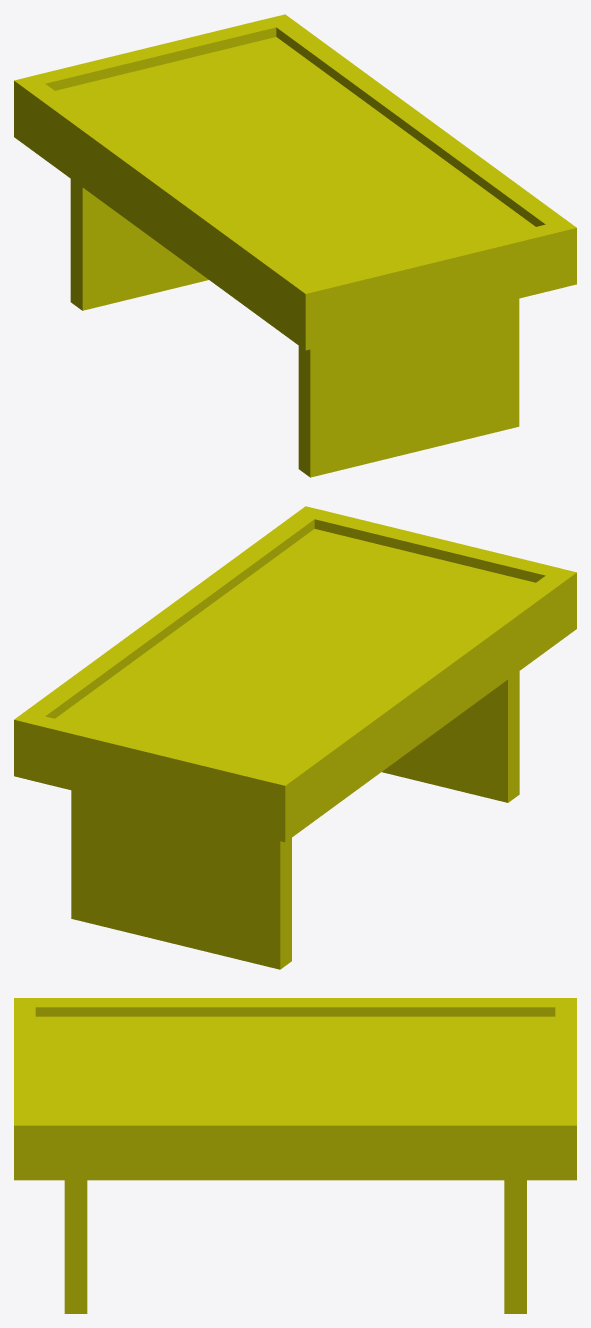
File: airhockey-collider.dae
3 renders of one model, top to bottom at view 1: azimuth 30°, elevation 25°; view 2: azimuth 150°, elevation 25°; view 3: azimuth 270°, elevation 25°, orthographic. The views are drawn at different scales.
Visible parts, largest first — view 1: Cube, Cube_002, Cube_003, Cube_005, Cube_001, Cube_004, Cube_006; view 2: Cube, Cube_001, Cube_003, Cube_006, Cube_002, Cube_004, Cube_005; view 3: Cube, Cube_004, Cube_003, Cube_002, Cube_001, Cube_005, Cube_006.
Part boxes in pixels (x1,y1,x2,y2): Cube: (55, 37, 535, 280); Cube_002: (298, 298, 519, 477); Cube_003: (14, 76, 325, 350); Cube_005: (310, 223, 564, 346); Cube_001: (70, 179, 208, 310); Cube_004: (265, 14, 576, 287); Cube_006: (29, 18, 282, 90); Cube: (55, 529, 535, 772); Cube_001: (71, 790, 291, 969); Cube_003: (266, 568, 576, 842); Cube_006: (26, 716, 280, 838); Cube_002: (382, 671, 519, 802); Cube_004: (14, 506, 325, 779); Cube_005: (308, 509, 561, 582); Cube: (35, 1016, 555, 1116); Cube_004: (14, 1116, 576, 1180); Cube_003: (14, 998, 576, 1016); Cube_002: (64, 1180, 87, 1313); Cube_001: (504, 1180, 526, 1313); Cube_005: (14, 1005, 35, 1119); Cube_006: (555, 1005, 576, 1116).
Bounding box in the file's own units: 1.42 × 2.64 × 1.05.
